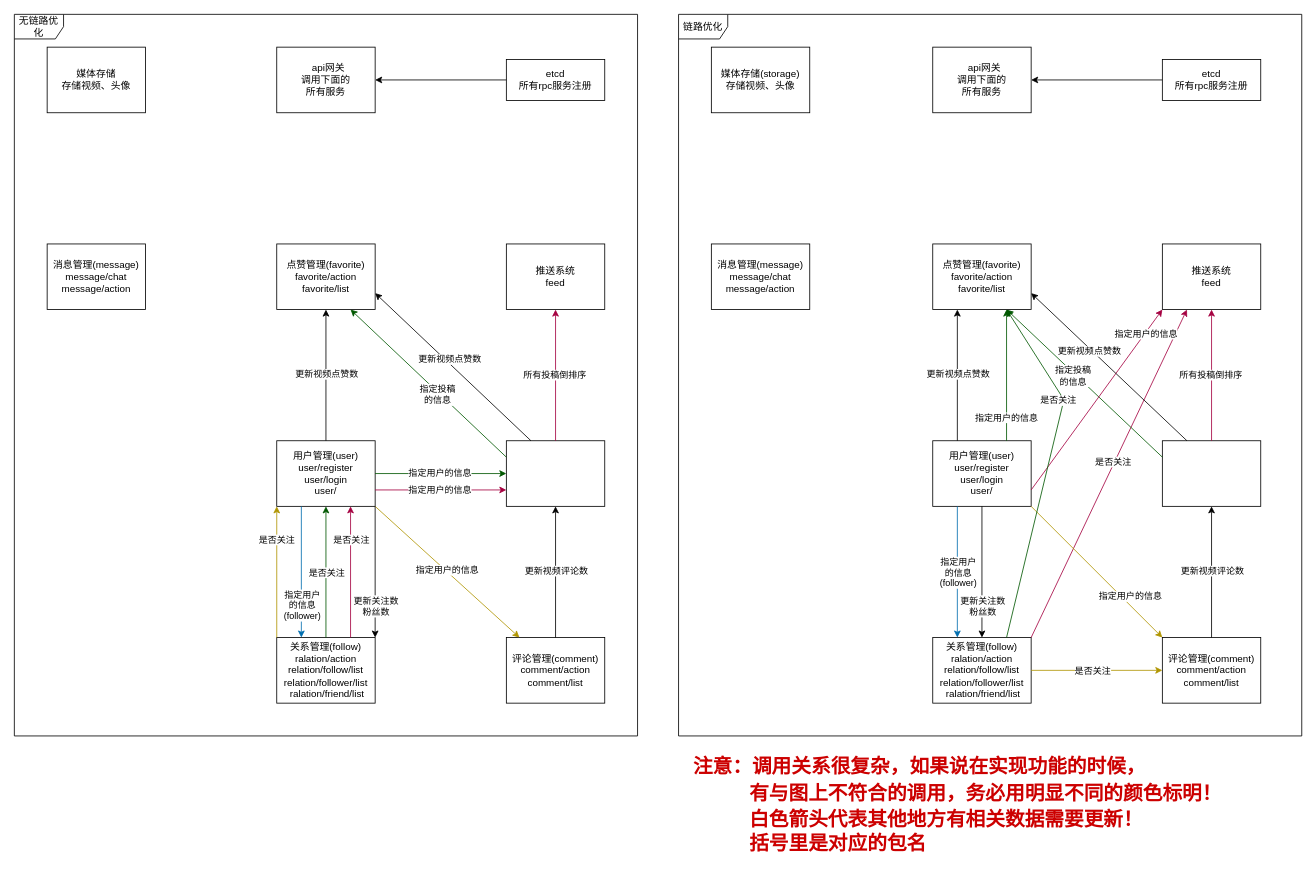
This 1316x892 diagram has some shape labels left out. The shapes that lost their labels are listed below. From the top down, each one's centre as x and y in pixels, then its label:
At point (555, 473): "投稿管理(video) user/publish user/publish/list".
At point (1211, 473): "投稿管理(publish) user/publish user/publish/list".
